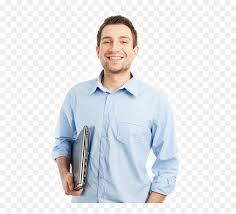person: (91, 12, 142, 82)
